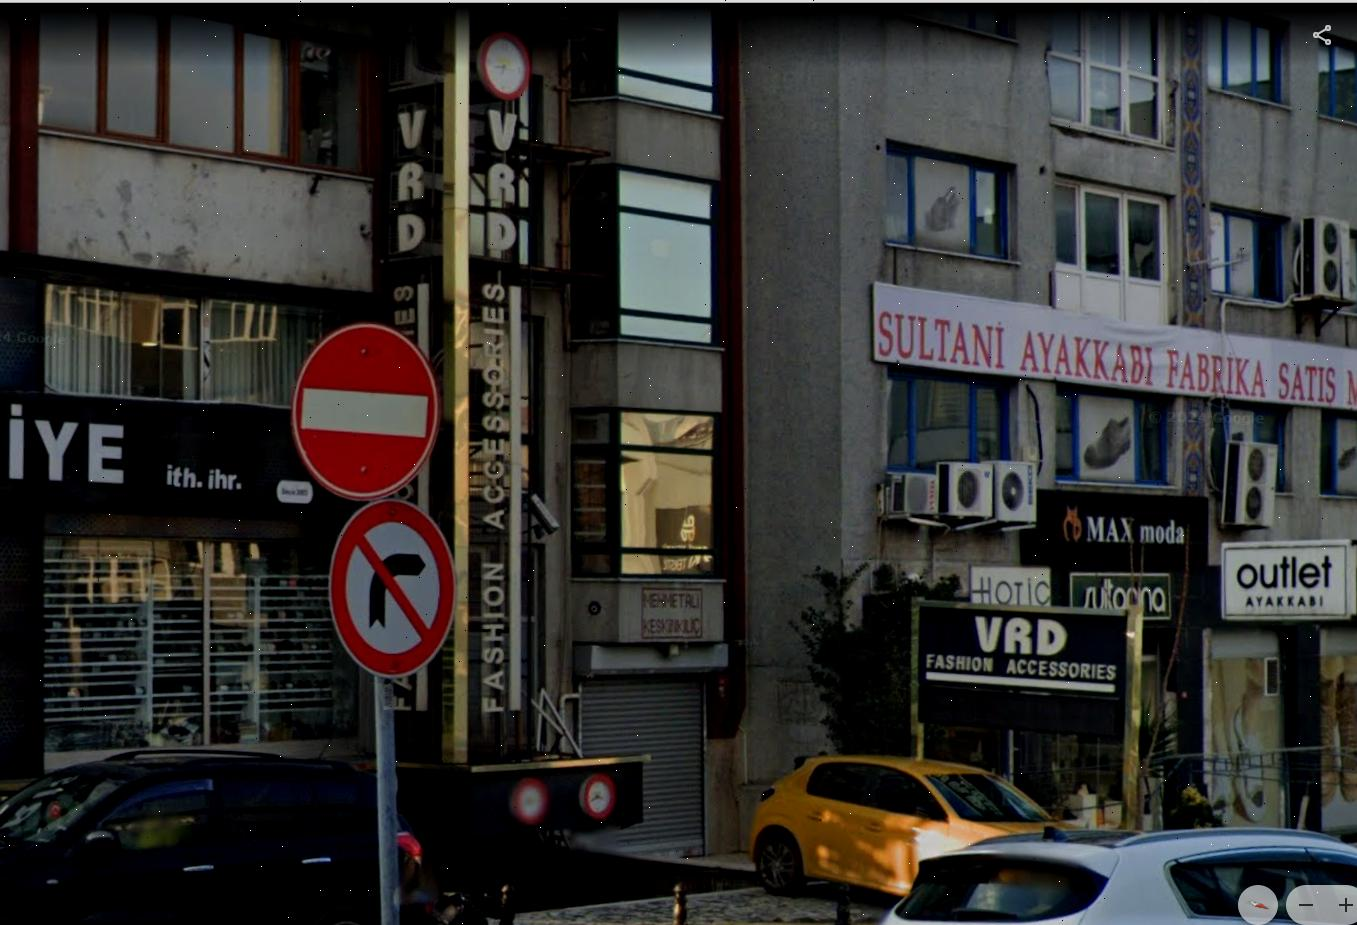rightturnsareforbidden: (337, 513, 464, 665)
